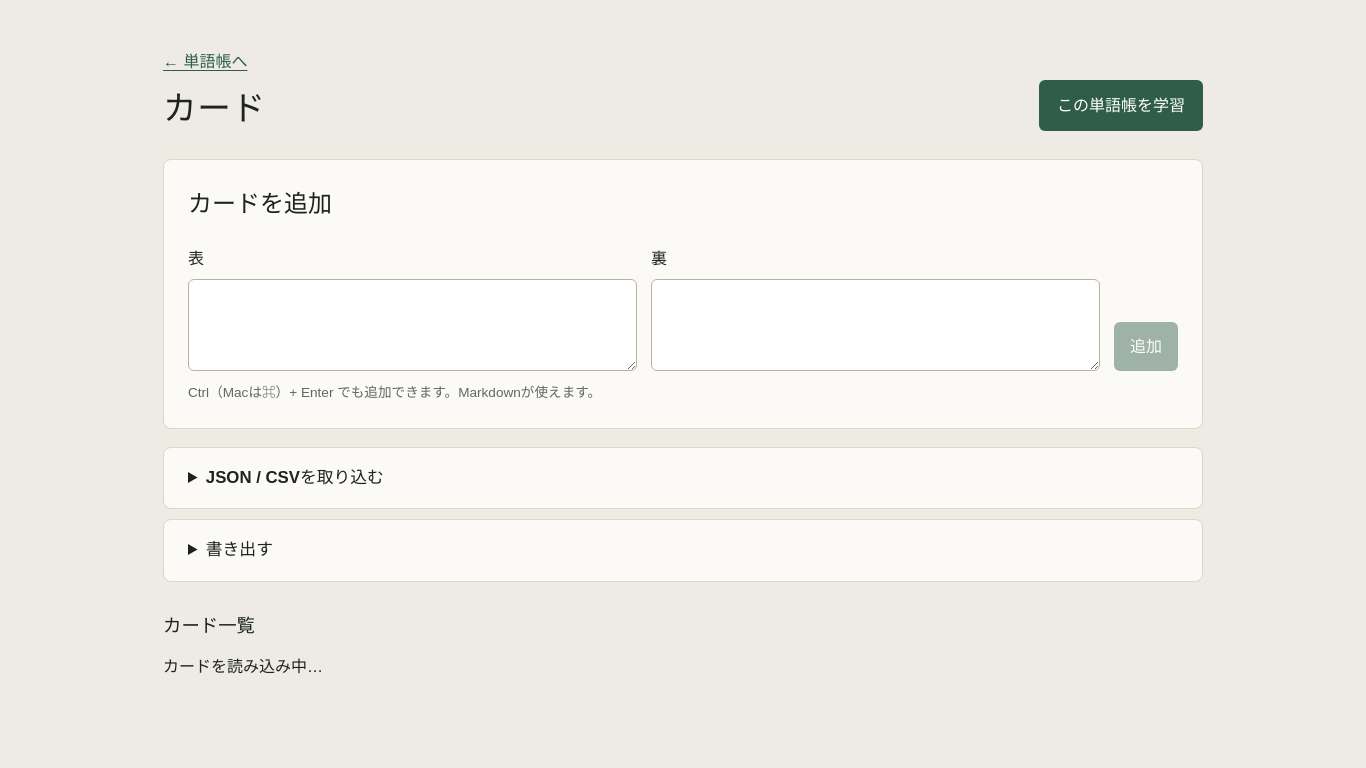
Test case: DeckDetailScreen › 追加したら表の欄へフォーカスを戻し、続けて入れられる
Type "表1" into the text box labelled "表".
click(412, 325); type("表1")  # box [188,279,637,371]
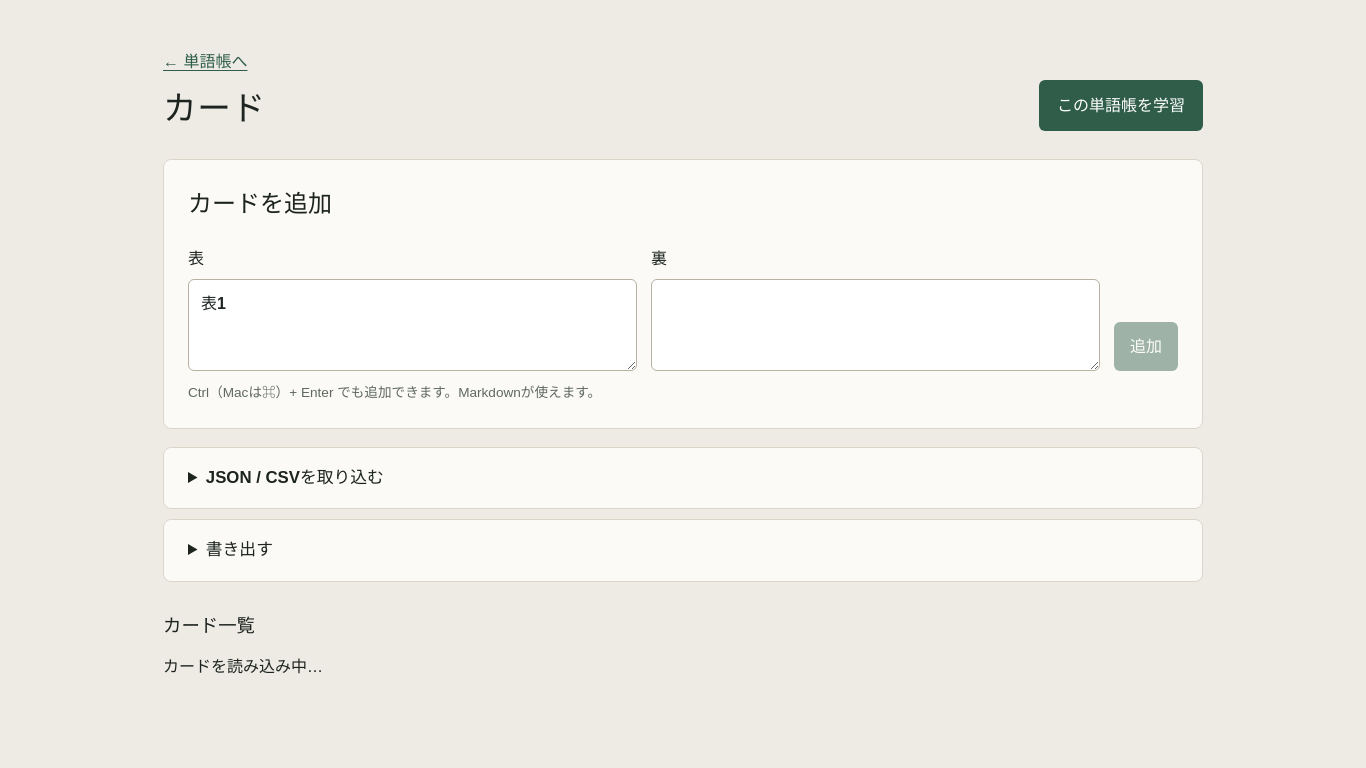
Type "裏1" into the text box labelled "裏".
click(876, 325); type("裏1")  # box [651,279,1100,371]
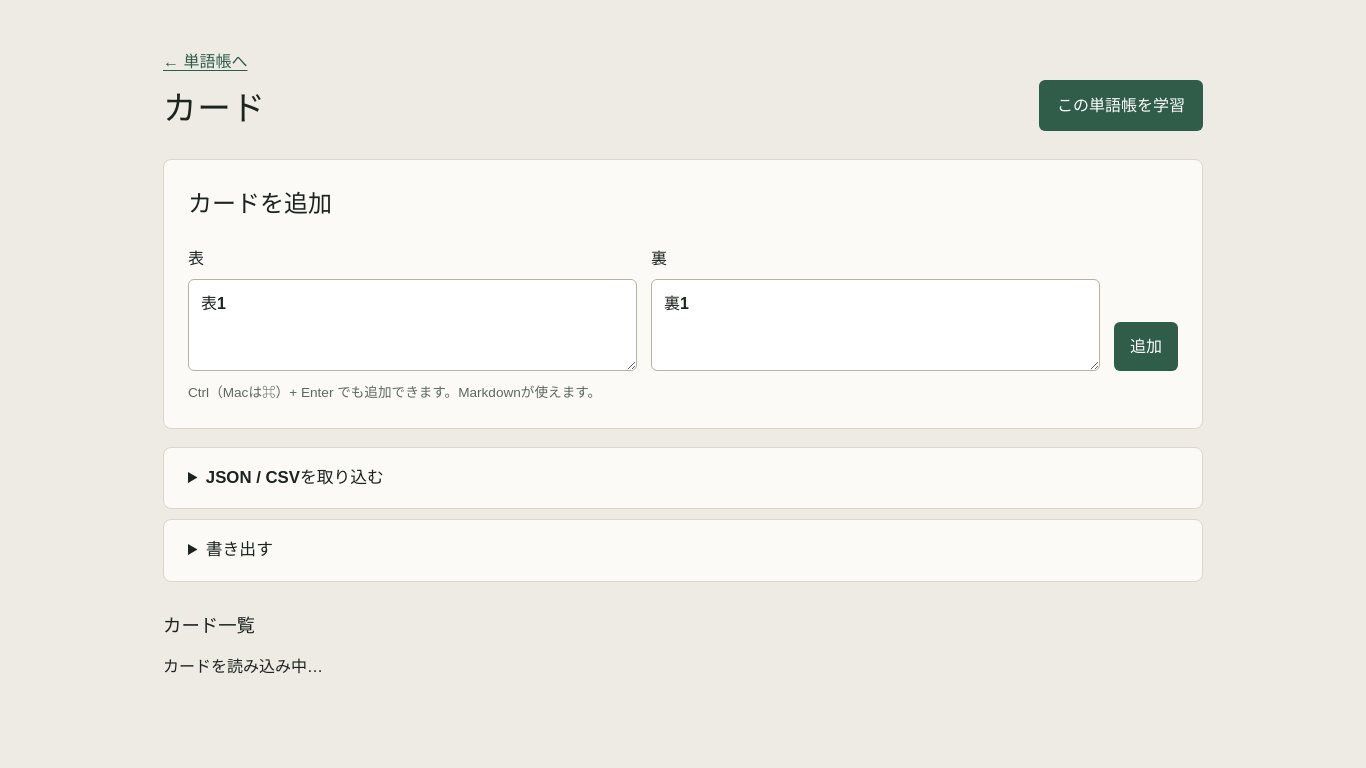
Click the button "追加".
click(1146, 346)  # box [1114,322,1178,371]
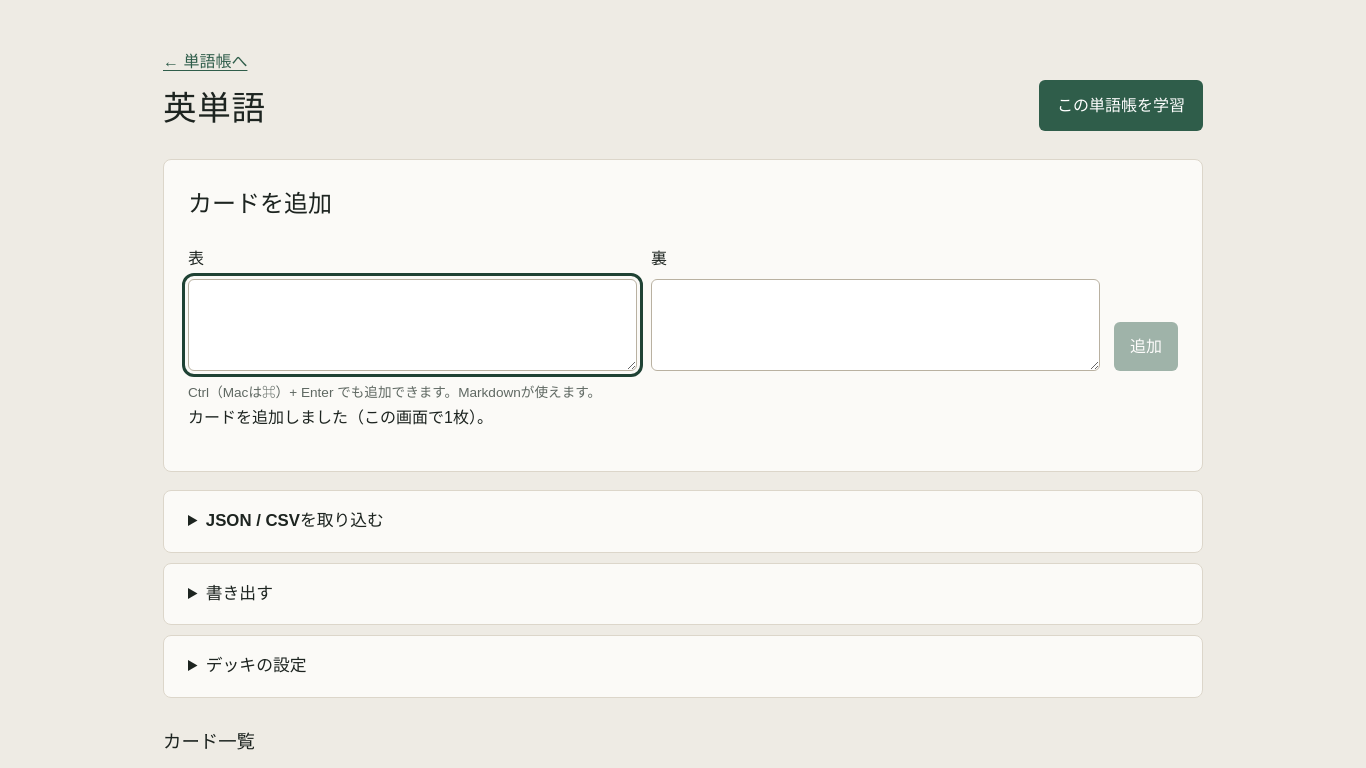
Check: the text "カードを追加しました（この画面で1枚）。" is shown, box [188,409,493,426]
Check: the text box labelled "表" is empty, box [188,279,637,371]
